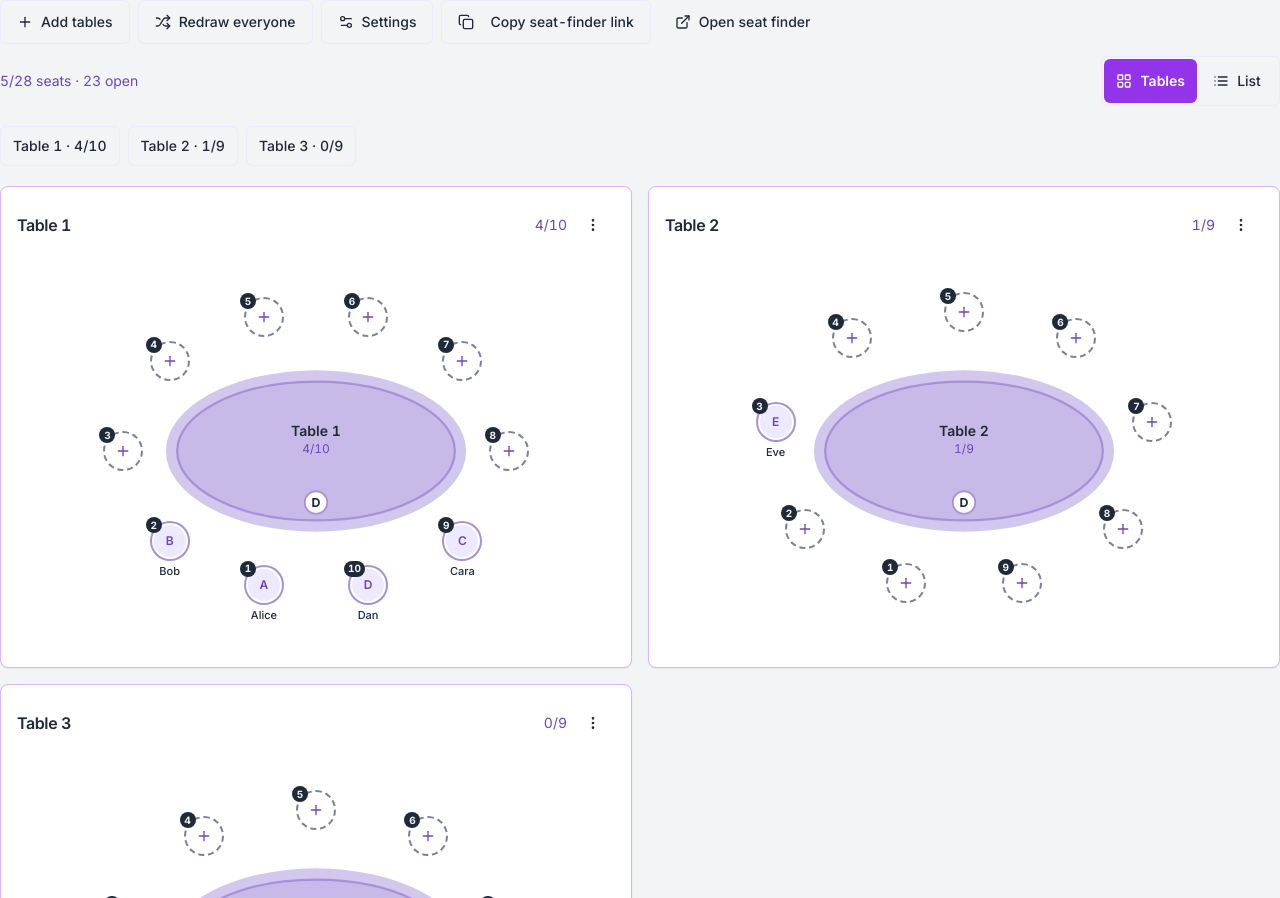
Test: SeatingPanel: a table's menu › renames a table, sending only the name
Click the button named "Table 2 options". click: (1241,225)
box: [1219,203,1263,247]
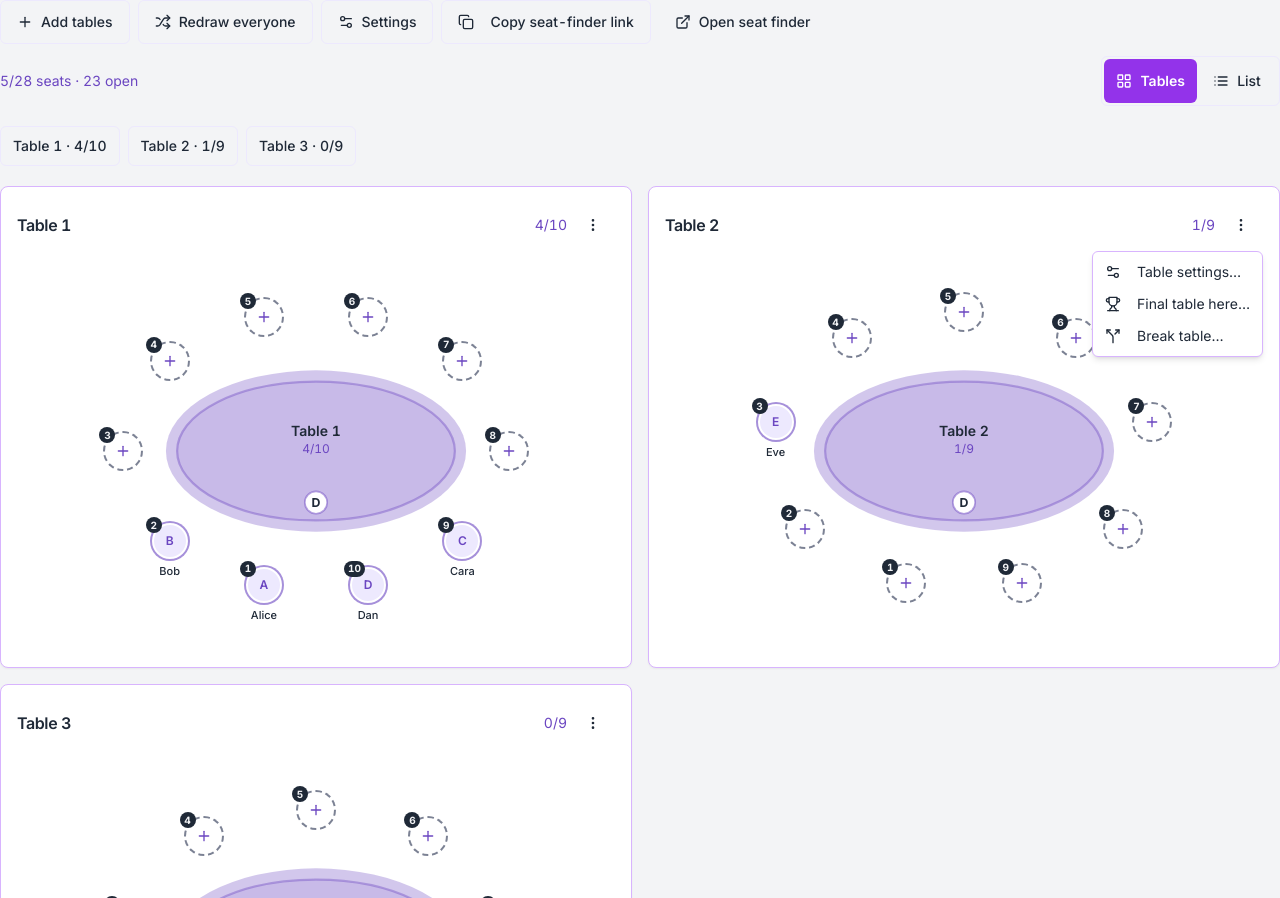
Click the menu item "Table settings…". click: (1173,272)
box: [1105,263,1241,280]
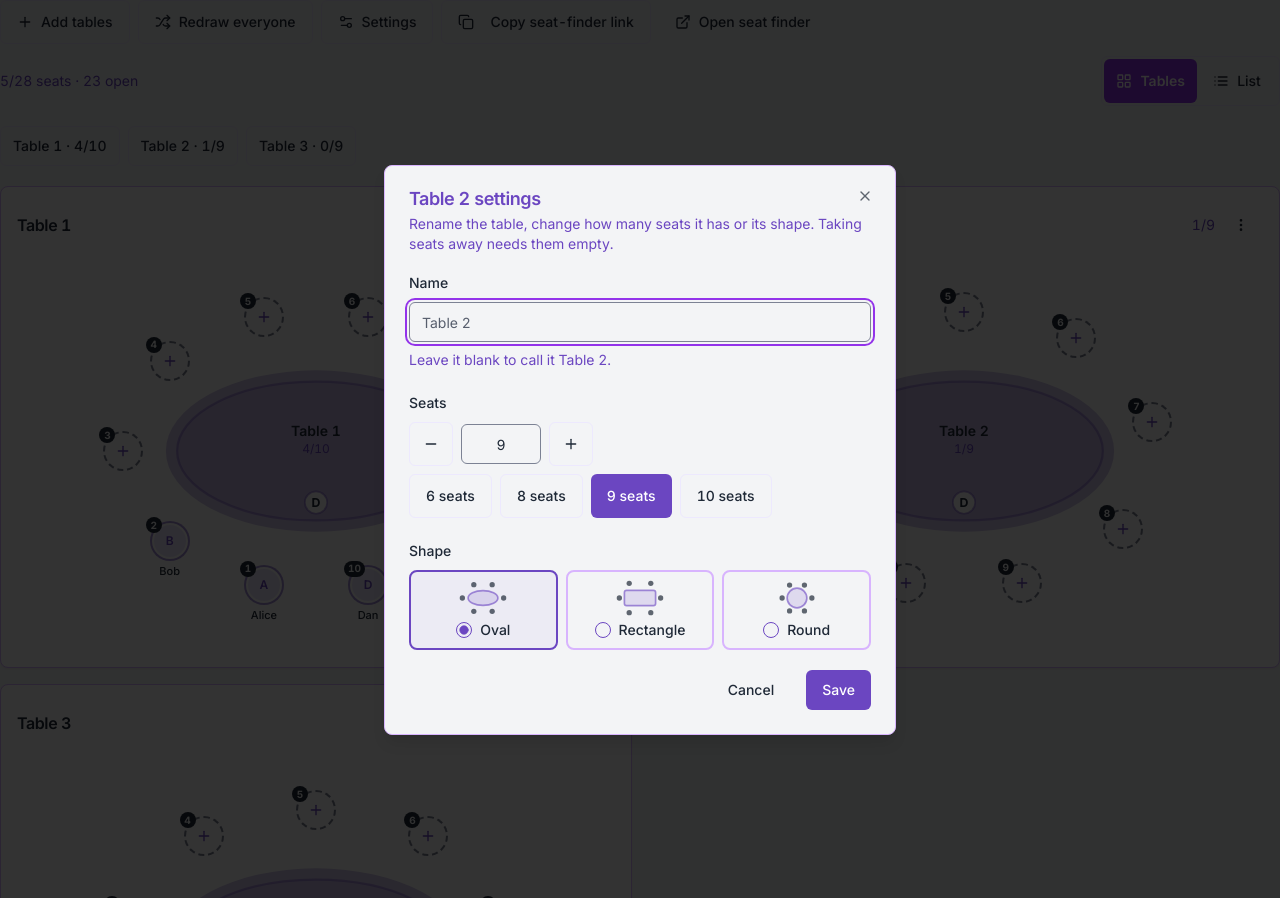
Type "Feature table" into the field labelled "Name". click: (640,322)
box: [409,302,871,342]
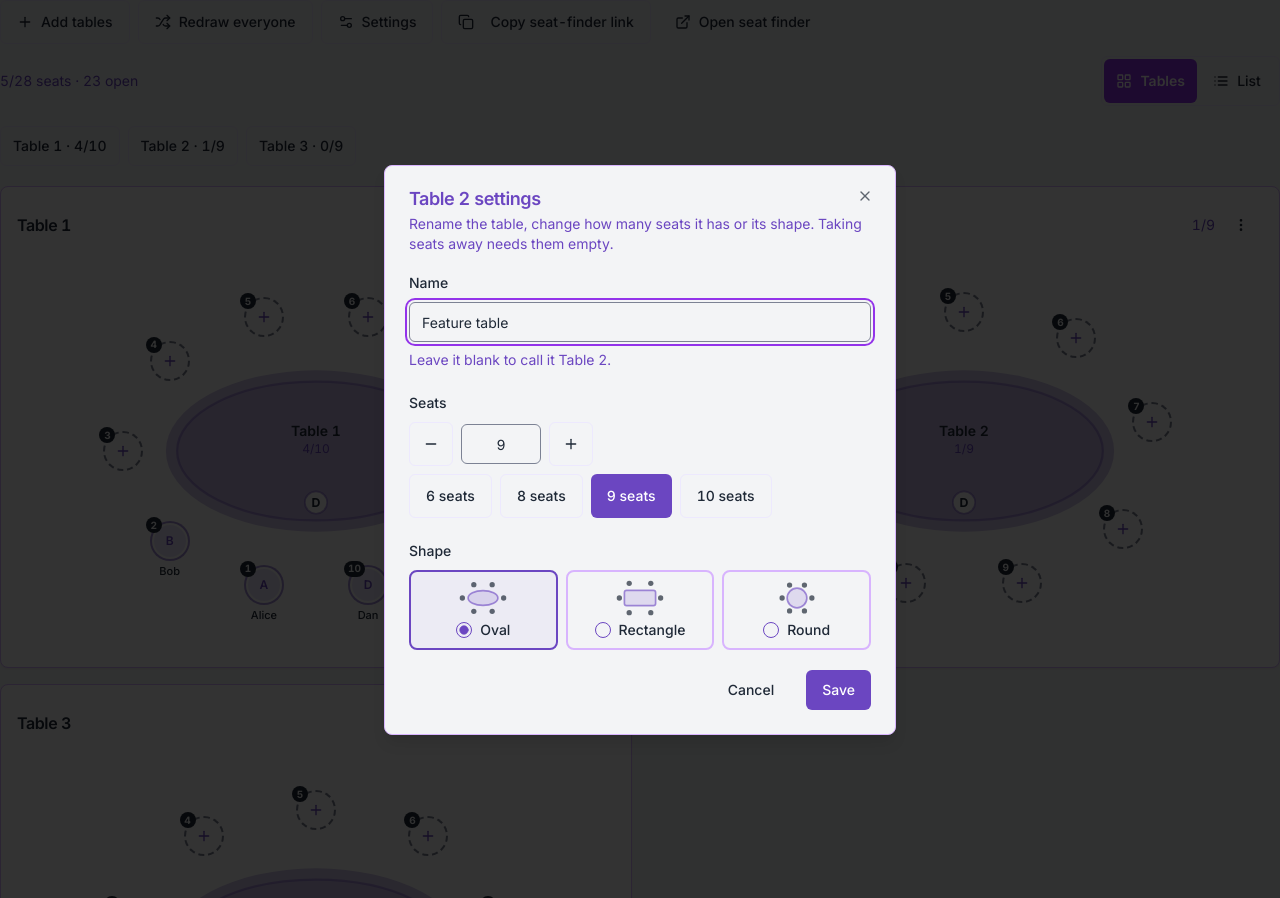
Click the button "Save". click: (839,690)
box: [806,670,871,710]
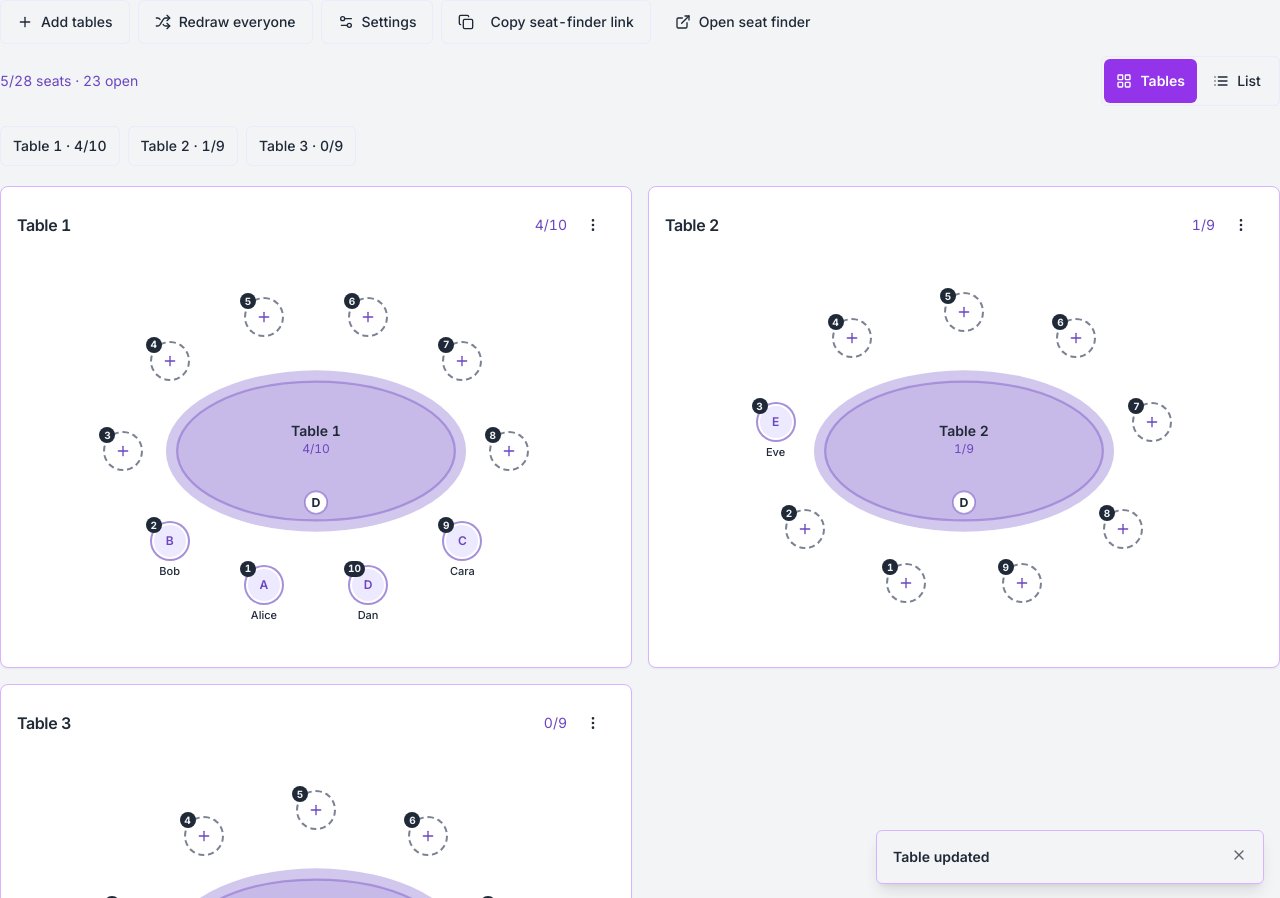
expect the text "Table updated" is shown: met, box [893,848,990,865]
expect the heading "Table 2 settings" is gone: met
